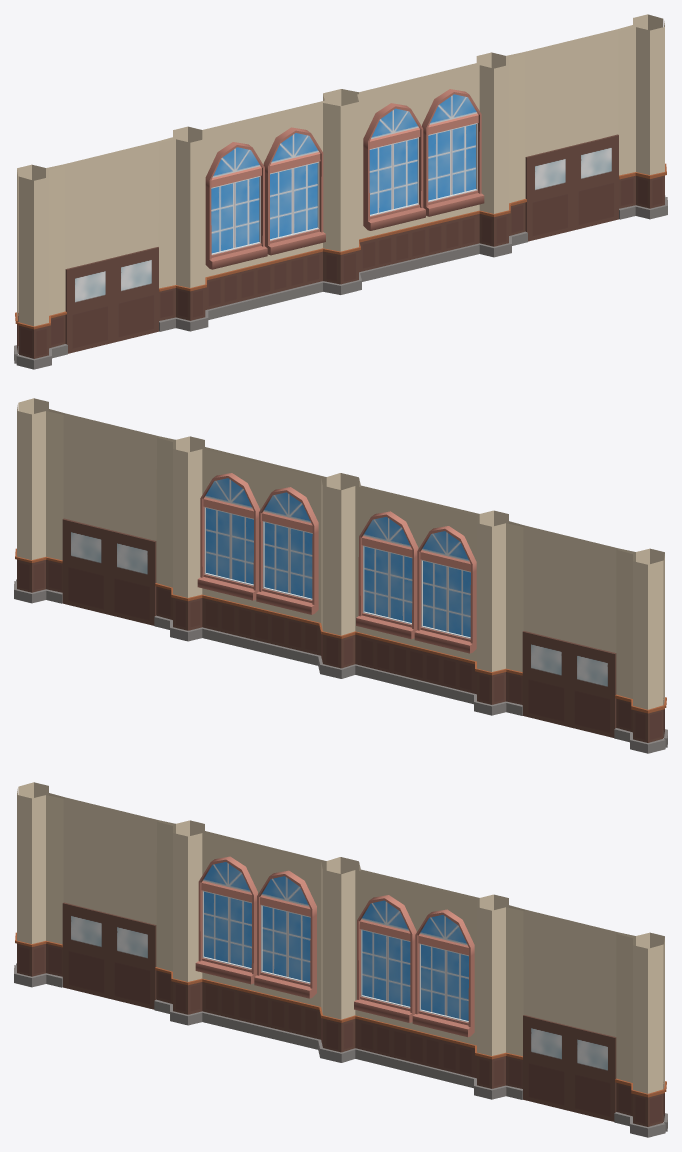
The model's file is Corridor_wall_1.fbx.
3 views of the same model, one above another, from view 1: azimuth 30°, elevation 25°; view 2: azimuth 150°, elevation 25°; view 3: azimuth 330°, elevation 25° (orthographic).
Parts seen in each view (by area): view 1: Middle_wall2, window12, window10, window9, window11, door7, door9, door8, door; view 2: Middle_wall2, window12, window10, window9, window11, door9, door7, door8, door; view 3: Middle_wall2, window9, window11, window12, window10, door8, door, door9, door7.
Part boxes in pixels (box(x1,y1,x2,y2)): Middle_wall2: box(14, 14, 667, 369); window12: box(363, 103, 425, 230); window10: box(205, 142, 267, 269); window9: box(263, 127, 325, 255); window11: box(422, 89, 484, 216); door7: box(65, 258, 112, 353); door9: box(525, 146, 572, 241); door8: box(572, 134, 618, 230); door: box(112, 247, 158, 342); Middle_wall2: box(14, 398, 667, 753); window12: box(256, 487, 318, 614); window10: box(414, 526, 476, 653); window9: box(356, 511, 418, 639); window11: box(197, 473, 259, 600); door9: box(108, 530, 156, 625); door7: box(569, 642, 616, 737); door8: box(62, 518, 109, 614); door: box(522, 631, 569, 726); Middle_wall2: box(14, 782, 667, 1137); window9: box(254, 870, 316, 998); window11: box(412, 909, 474, 1037); window12: box(354, 895, 416, 1022); window10: box(195, 856, 257, 984); door8: box(569, 1026, 616, 1121); door: box(109, 914, 156, 1009); door9: box(523, 1015, 569, 1110); door7: box(62, 902, 109, 998).
Size of the model in its own units: 1814 by 500 by 100.
Materials: 3 (3 with a texture image).
